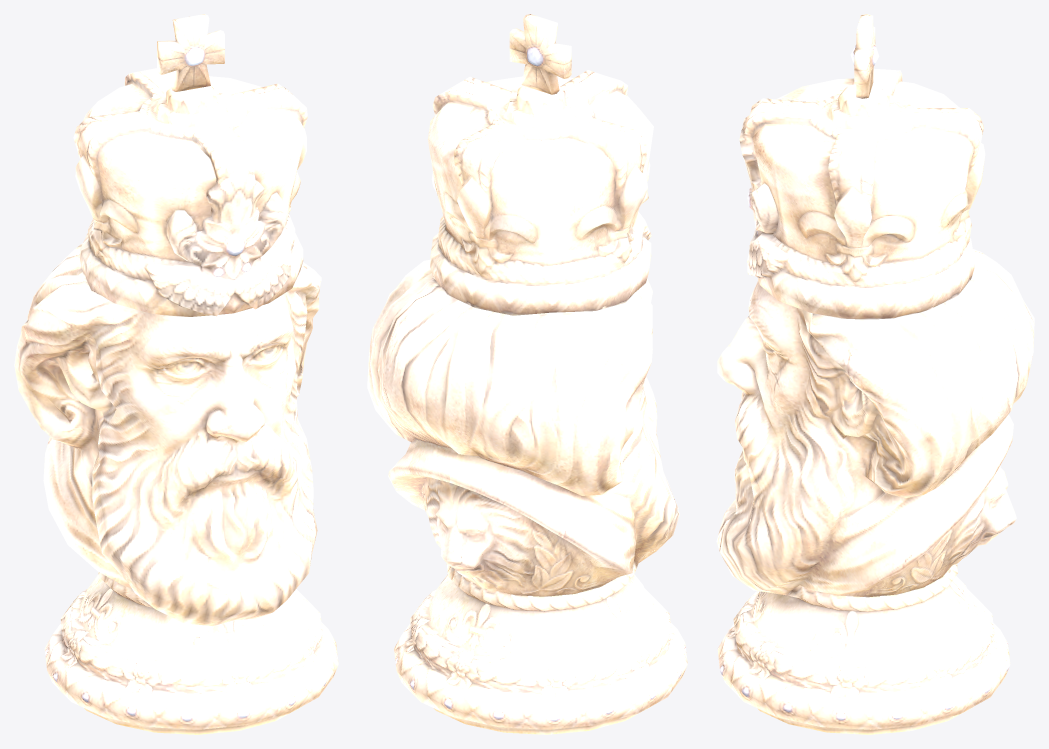
Rendered from idea.glb.
The picture shows the model from 3 angles, left to right: view 1: azimuth 30°, elevation 25°; view 2: azimuth 150°, elevation 25°; view 3: azimuth 270°, elevation 25°; orthographic projection.
Parts seen in each view (by area): view 1: Mesh_0; view 2: Mesh_0; view 3: Mesh_0.
Boxes of the visible parts, x1,y1,x2,y2 form: Mesh_0: (14, 14, 338, 734); Mesh_0: (367, 14, 687, 734); Mesh_0: (716, 14, 1034, 734).
Bounding box in the file's own units: 9.14 × 20.63 × 9.
